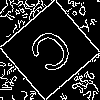C: (25, 25, 83, 84)
